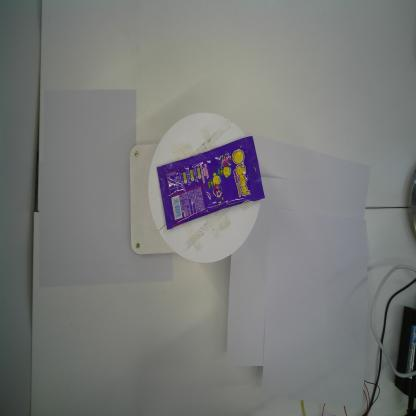Candy: (156, 135, 266, 231)
